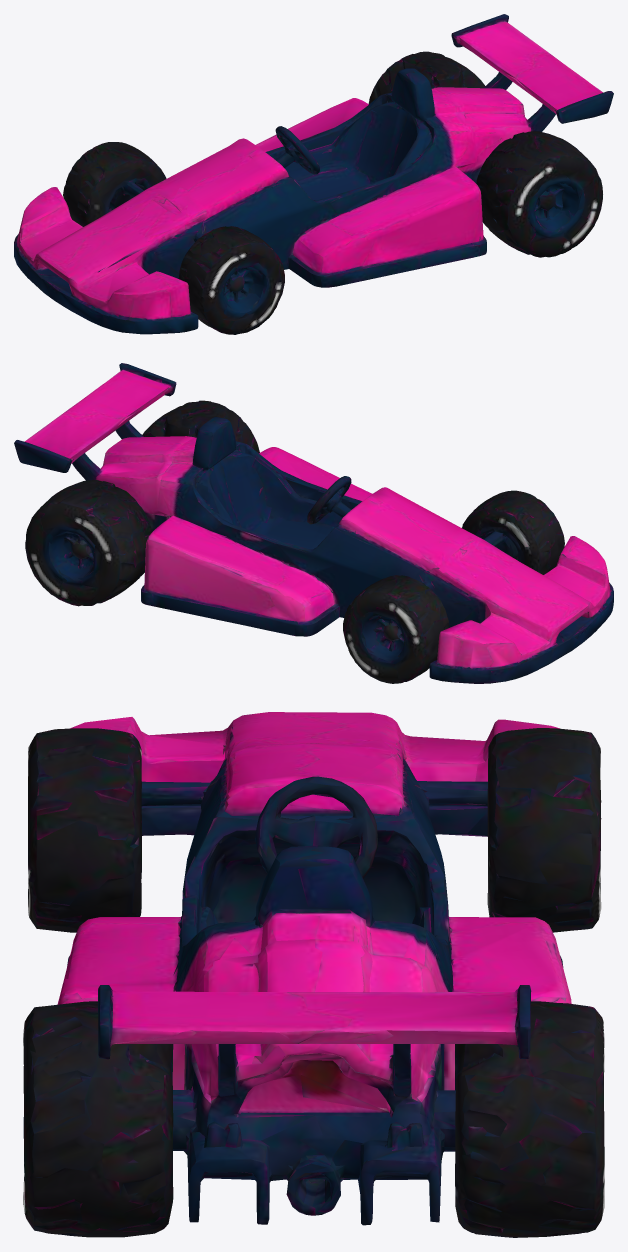
File: node-runner.glb
3 views of the same model, one above another, from view 1: azimuth 30°, elevation 25°; view 2: azimuth 150°, elevation 25°; view 3: azimuth 270°, elevation 25° (orthographic). The views are drawn at different scales.
Bounding box in the file's own units: 1.9 × 0.5462 × 0.9348.
Materials: 1 (1 with a texture image).
